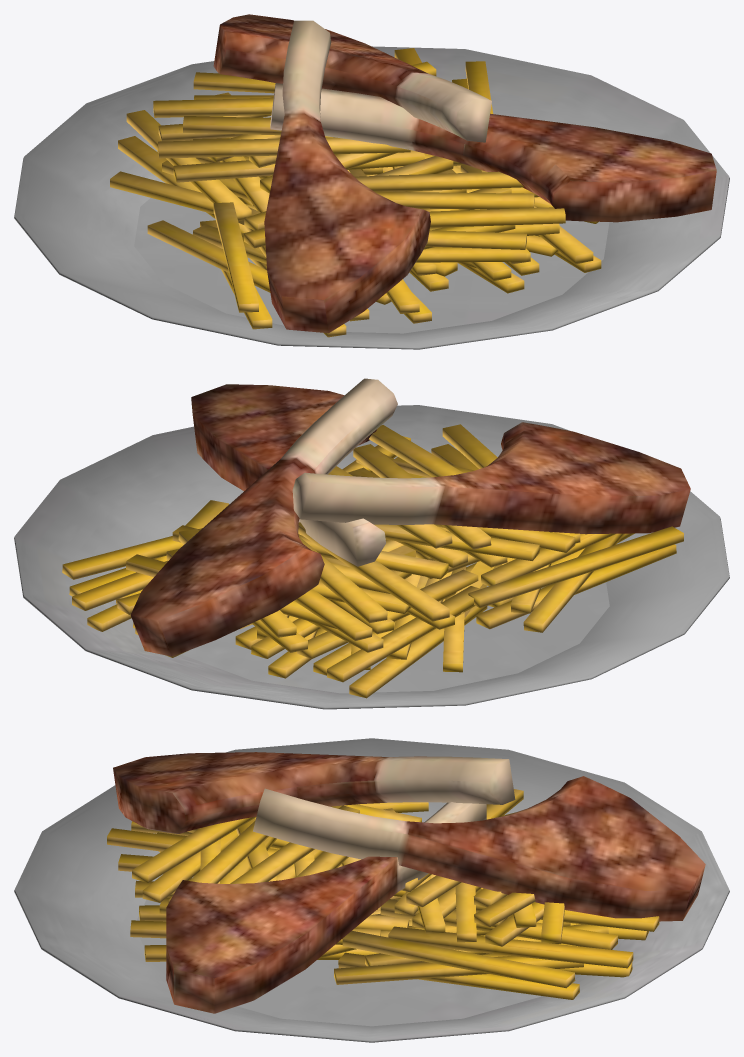
File: fries_meat_plate.fbx
The picture shows the model from 3 angles, top to bottom: view 1: azimuth 30°, elevation 25°; view 2: azimuth 150°, elevation 25°; view 3: azimuth 270°, elevation 25°; orthographic projection.
Visible parts, largest first — view 1: SM_SlowSlicedCalf; view 2: SM_SlowSlicedCalf; view 3: SM_SlowSlicedCalf.
Part boxes in pixels (x1,y1,x2,y2): SM_SlowSlicedCalf: (14, 14, 729, 349); SM_SlowSlicedCalf: (14, 378, 729, 709); SM_SlowSlicedCalf: (14, 738, 729, 1042).
Size of the model in its own units: 21.77 by 5.56 by 21.77.
